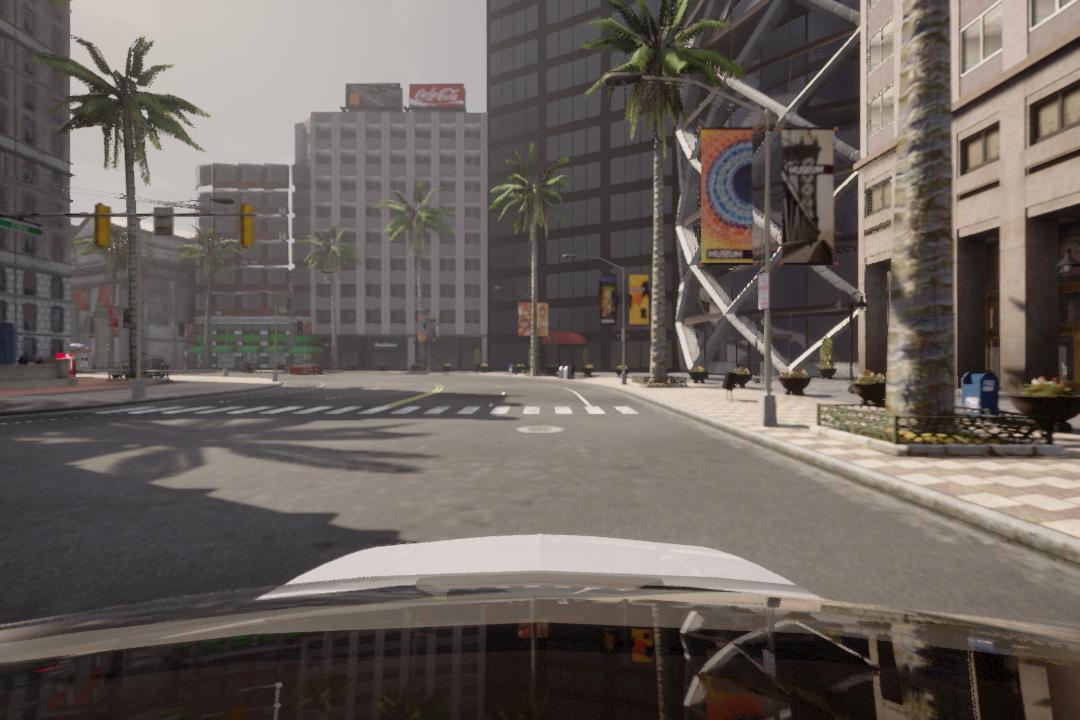walkside: (111, 399, 651, 420)
